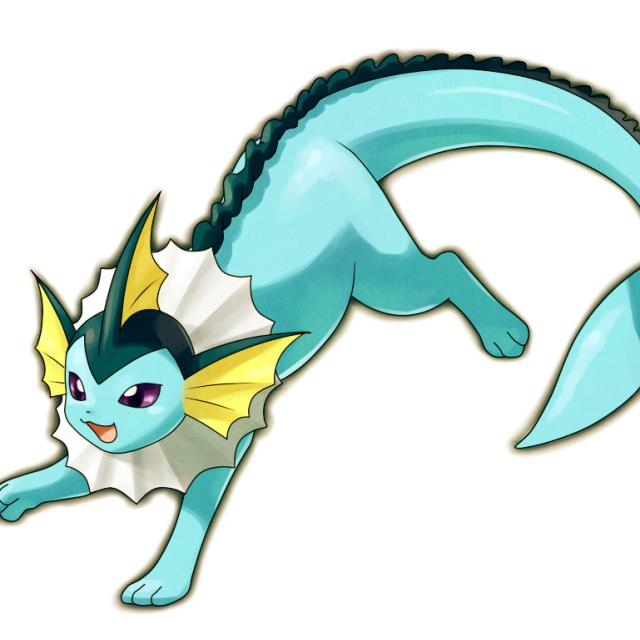Vaporeon: (2, 122, 430, 515)
